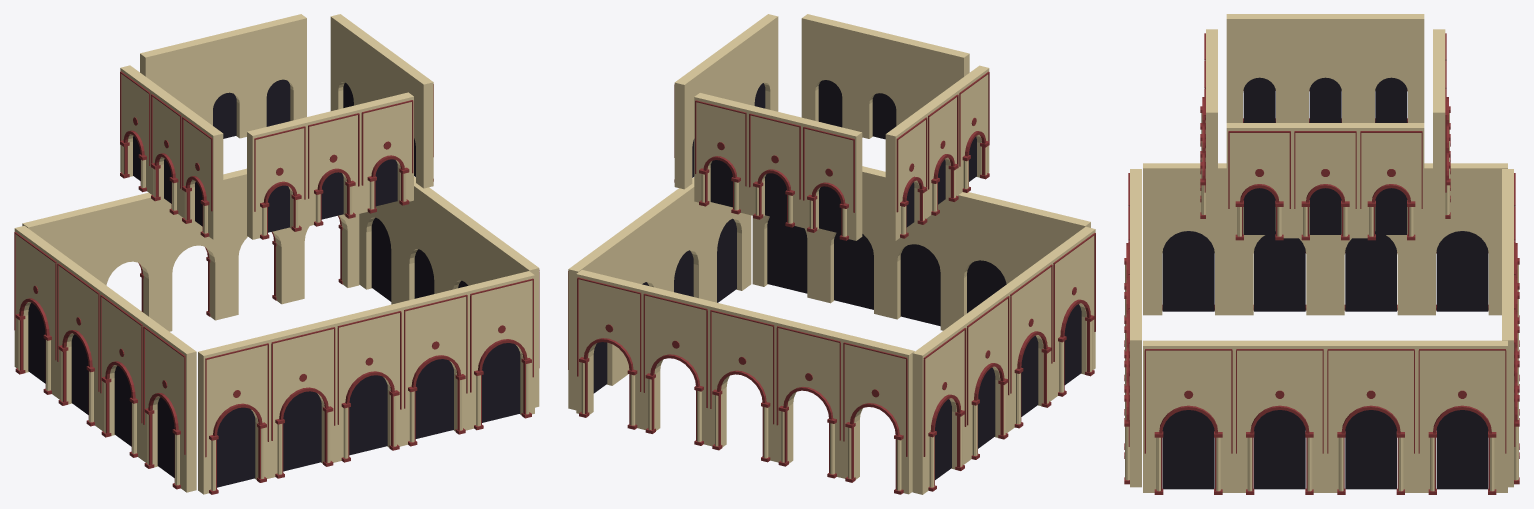
Rendered from KOL_T1_DAKSHINESHWAR__04_Main_Arcades.fbx.
The picture shows the model from 3 angles, left to right: view 1: azimuth 30°, elevation 25°; view 2: azimuth 150°, elevation 25°; view 3: azimuth 270°, elevation 25°; orthographic projection. The views are drawn at different scales.
Visible parts, largest first — view 1: KOL_T1_DAKSHINESHWAR__04_Main_Arcades__KOL_T1_TempleCream, KOL_T1_DAKSHINESHWAR__04_Main_Arcades__KOL_T1_TempleDark, KOL_T1_DAKSHINESHWAR__04_Main_Arcades__KOL_T1_TempleRed, KOL_T1_DAKSHINESHWAR__04_Main_Arcades__KOL_T1_TempleRed.001; view 2: KOL_T1_DAKSHINESHWAR__04_Main_Arcades__KOL_T1_TempleCream, KOL_T1_DAKSHINESHWAR__04_Main_Arcades__KOL_T1_TempleDark, KOL_T1_DAKSHINESHWAR__04_Main_Arcades__KOL_T1_TempleRed, KOL_T1_DAKSHINESHWAR__04_Main_Arcades__KOL_T1_TempleRed.001; view 3: KOL_T1_DAKSHINESHWAR__04_Main_Arcades__KOL_T1_TempleCream, KOL_T1_DAKSHINESHWAR__04_Main_Arcades__KOL_T1_TempleDark, KOL_T1_DAKSHINESHWAR__04_Main_Arcades__KOL_T1_TempleRed, KOL_T1_DAKSHINESHWAR__04_Main_Arcades__KOL_T1_TempleRed.001.
Part boxes in pixels (x1,y1,x2,y2): KOL_T1_DAKSHINESHWAR__04_Main_Arcades__KOL_T1_TempleCream: (14, 14, 539, 494); KOL_T1_DAKSHINESHWAR__04_Main_Arcades__KOL_T1_TempleDark: (28, 79, 520, 487); KOL_T1_DAKSHINESHWAR__04_Main_Arcades__KOL_T1_TempleRed: (14, 117, 539, 494); KOL_T1_DAKSHINESHWAR__04_Main_Arcades__KOL_T1_TempleRed.001: (120, 71, 433, 239); KOL_T1_DAKSHINESHWAR__04_Main_Arcades__KOL_T1_TempleCream: (568, 14, 1095, 494); KOL_T1_DAKSHINESHWAR__04_Main_Arcades__KOL_T1_TempleDark: (593, 80, 1081, 479); KOL_T1_DAKSHINESHWAR__04_Main_Arcades__KOL_T1_TempleRed: (568, 71, 1095, 494); KOL_T1_DAKSHINESHWAR__04_Main_Arcades__KOL_T1_TempleRed.001: (674, 84, 958, 238); KOL_T1_DAKSHINESHWAR__04_Main_Arcades__KOL_T1_TempleCream: (1125, 14, 1518, 492); KOL_T1_DAKSHINESHWAR__04_Main_Arcades__KOL_T1_TempleDark: (1162, 77, 1488, 489); KOL_T1_DAKSHINESHWAR__04_Main_Arcades__KOL_T1_TempleRed: (1124, 33, 1519, 494); KOL_T1_DAKSHINESHWAR__04_Main_Arcades__KOL_T1_TempleRed.001: (1200, 33, 1422, 240).
Size of the model in its own units: 87.4 by 71.95 by 78.
